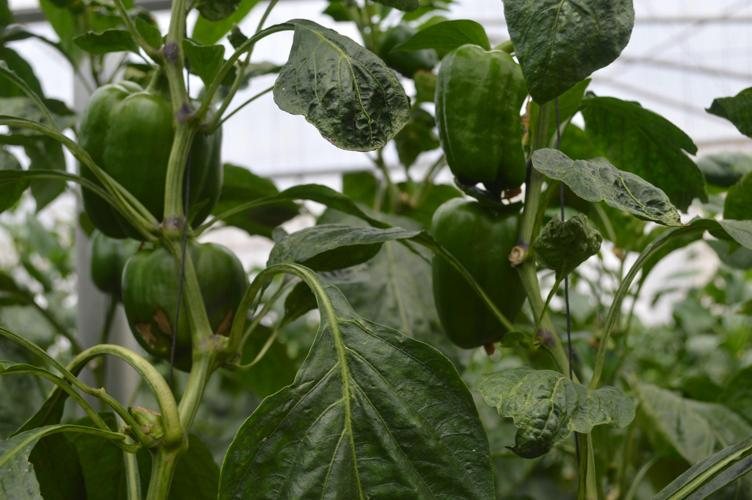BellPepper: (69, 83, 227, 226), (424, 194, 526, 354), (120, 241, 244, 365), (425, 45, 528, 187), (84, 234, 128, 291)
